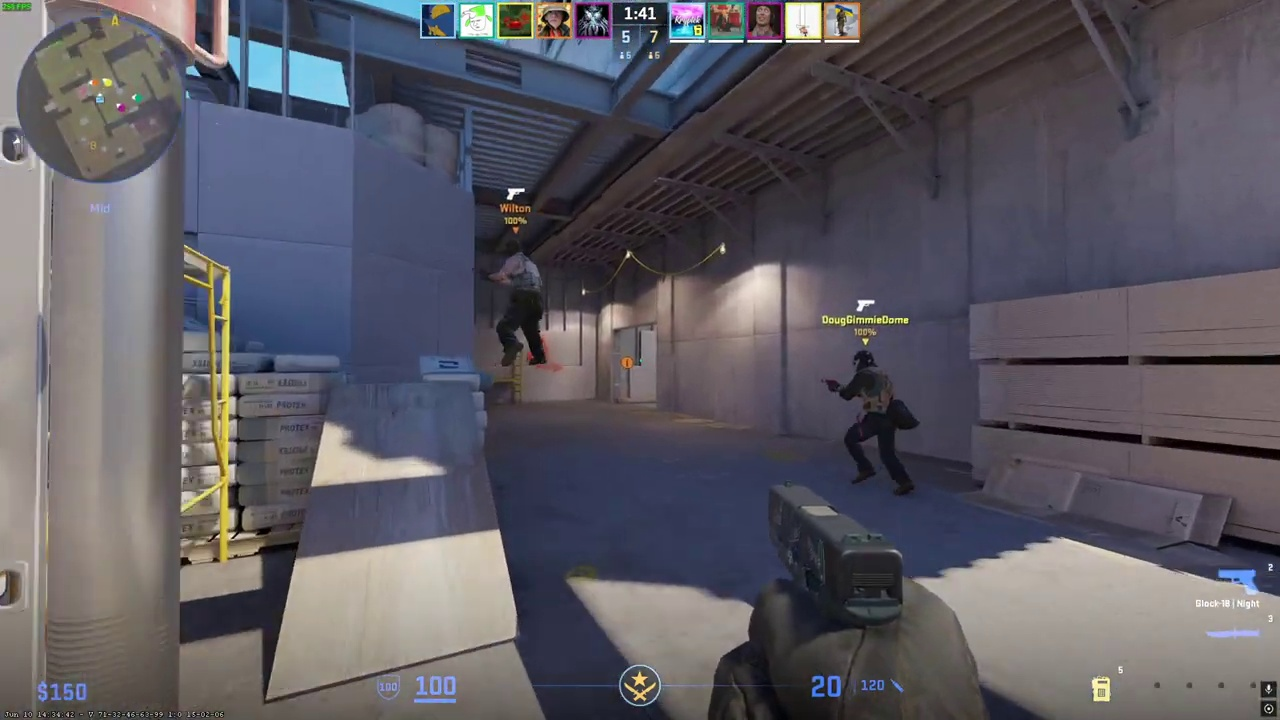Terrorist: (839, 350, 912, 496), (494, 239, 546, 367)
